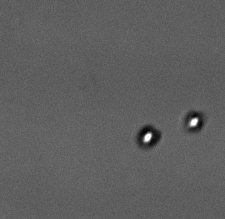Living Cell: (137, 125, 159, 148), (185, 111, 203, 133)
